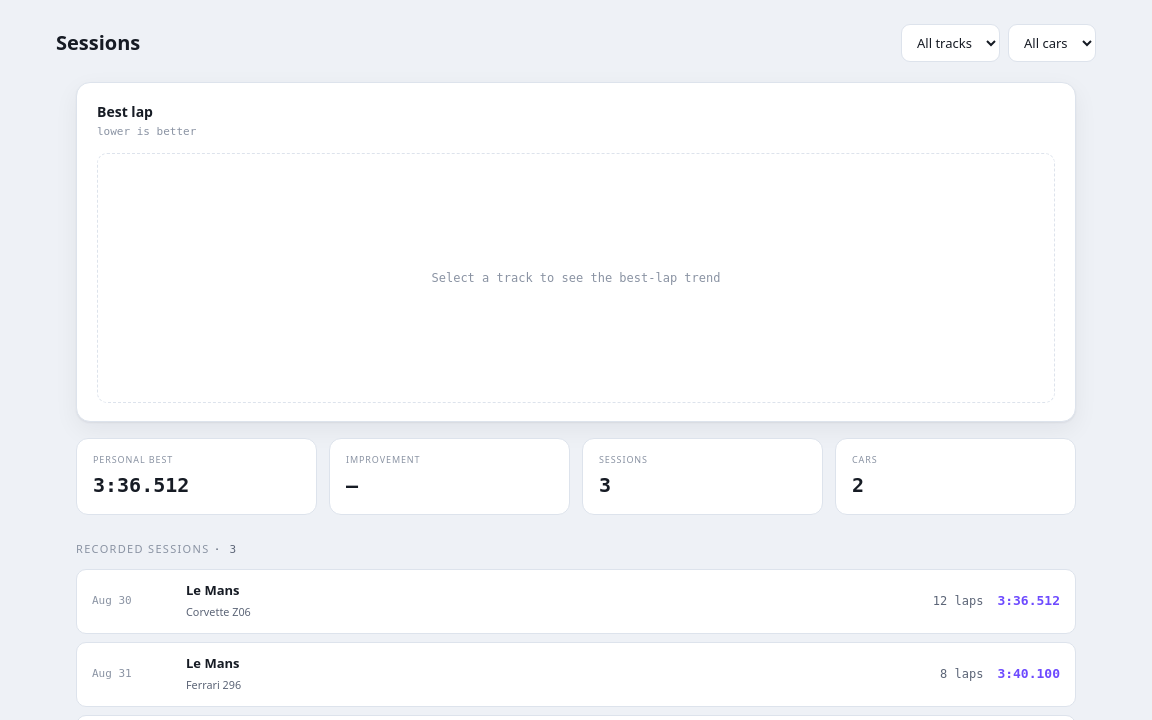
SessionsScreen › narrows the session list when the track filter changes
The width and height of the screenshot is (1152, 720).
Select "Sebring" in the dropdown named "track": {"x": 950, "y": 43} [901,24,1000,62]
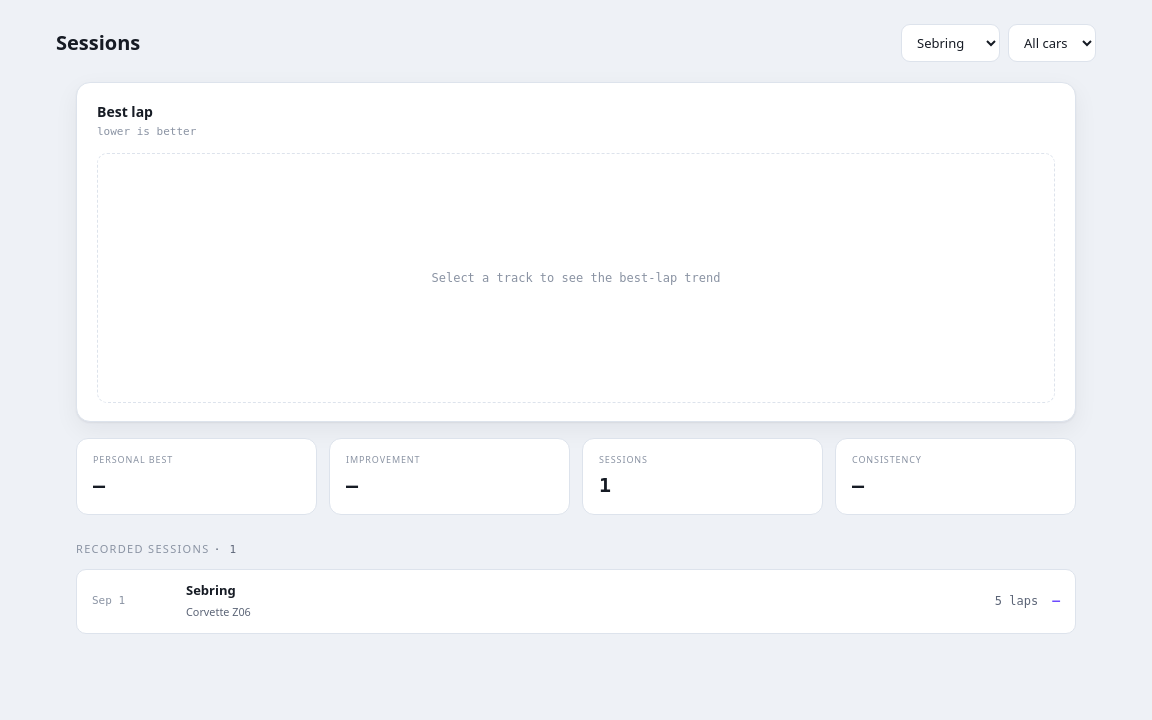
Expected: the text "Sebring" is shown, [186,580,236,598]
Expected: the button "Le Mans" is gone
